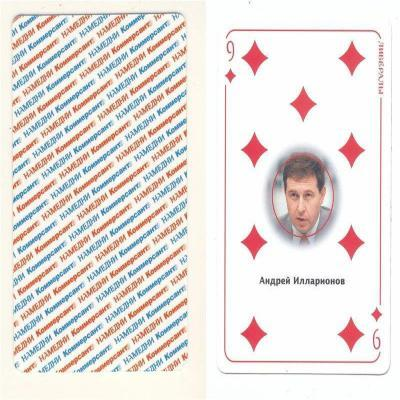graphics: (11, 12, 188, 374), (218, 17, 393, 378)
